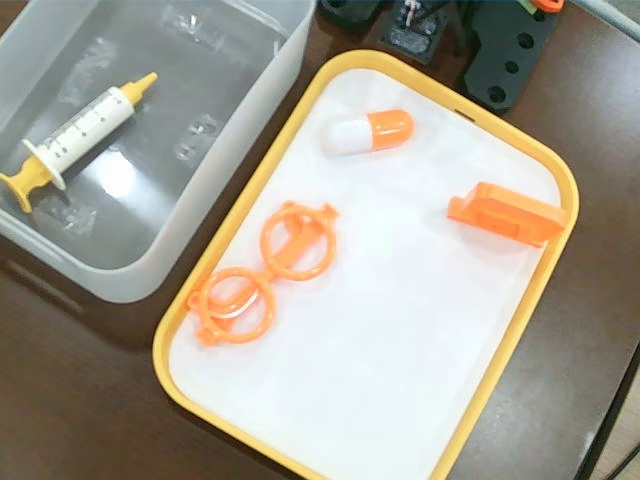pill: (317, 109, 414, 155)
syringe: (0, 71, 160, 214)
